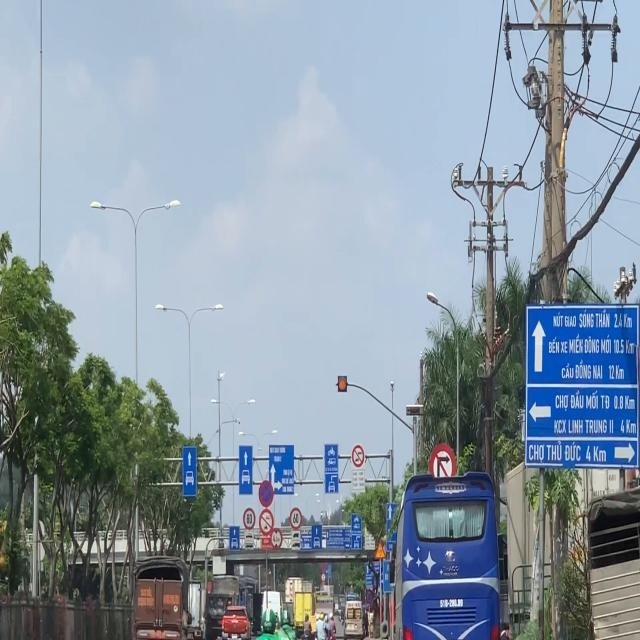bien_cam: (429, 441, 454, 481), (258, 480, 274, 508), (288, 505, 303, 531), (243, 504, 257, 530), (270, 528, 282, 550)
